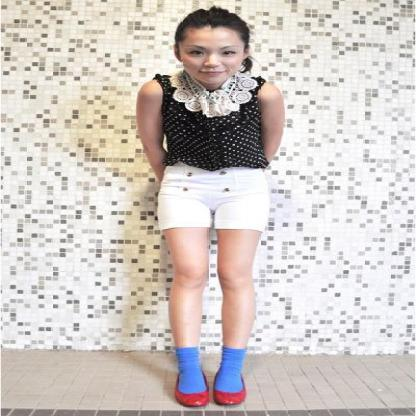shirt: (158, 70, 268, 171)
shoe: (187, 390, 235, 406)
shorts: (157, 163, 271, 229)
